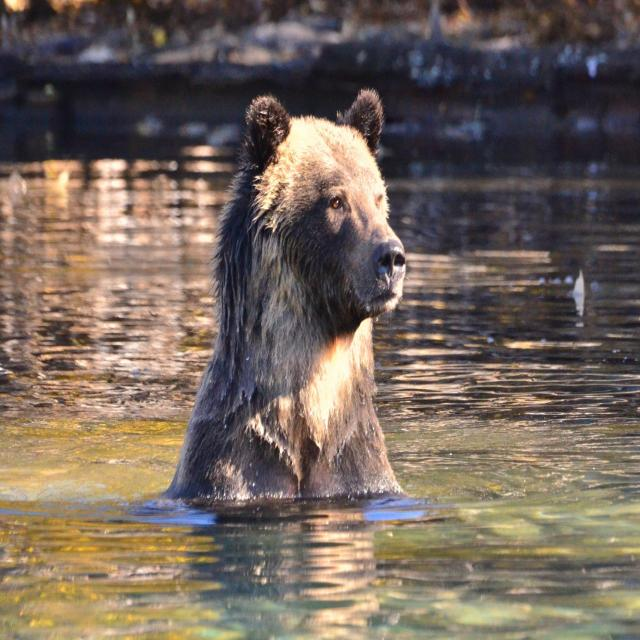Bear: (158, 89, 408, 509)
